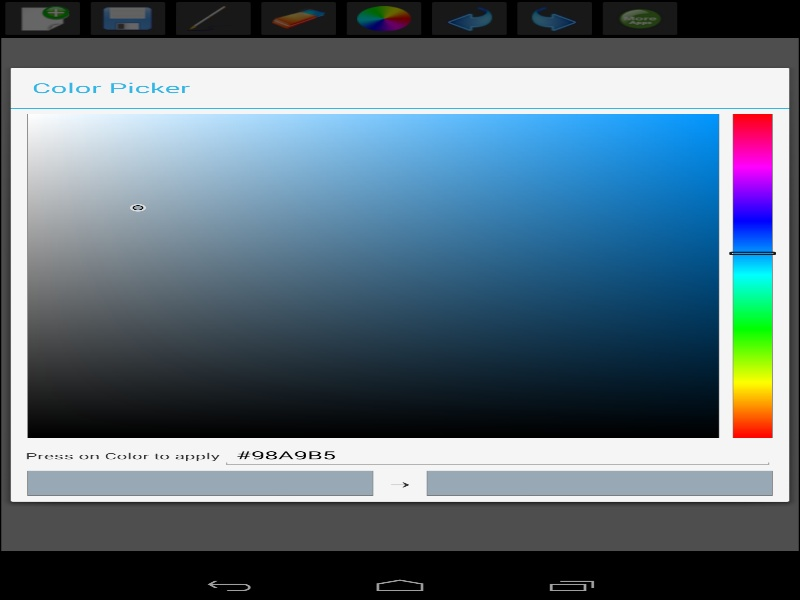Input: (220, 442, 774, 467)
